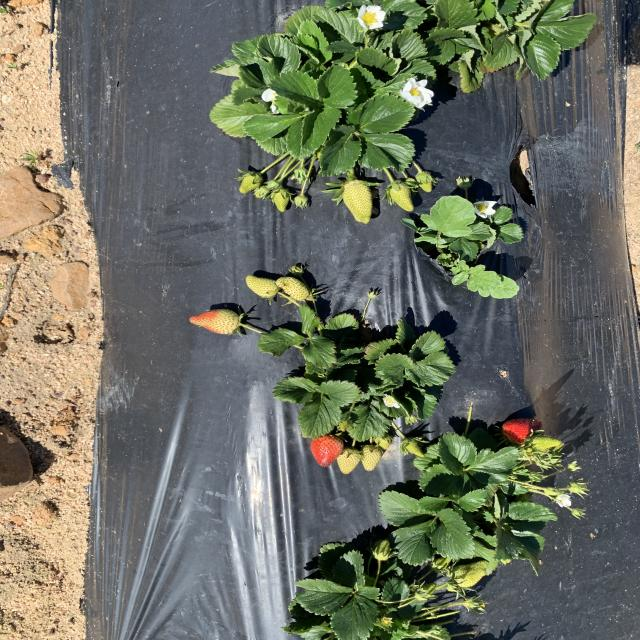unripe: (308, 436, 346, 467), (500, 417, 544, 442)
